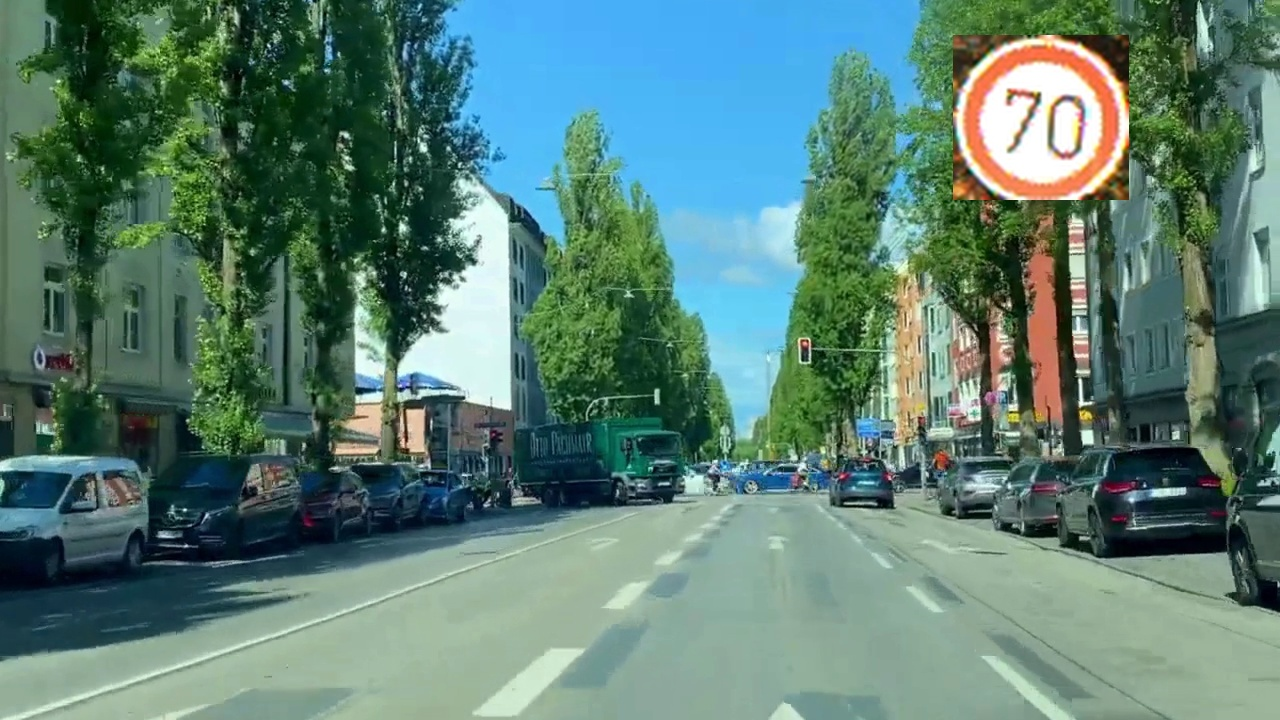Speed 70: (953, 35, 1129, 200)
